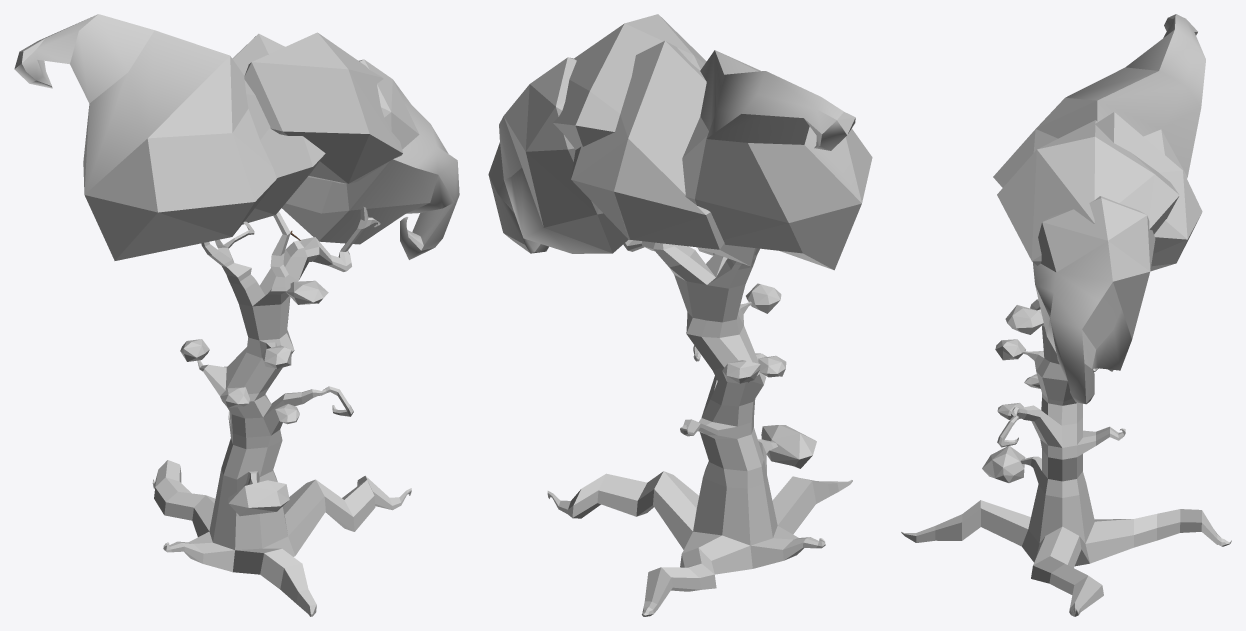
The model's file is BigTree.fbx.
3 views of the same model, side by side, from view 1: azimuth 30°, elevation 25°; view 2: azimuth 150°, elevation 25°; view 3: azimuth 270°, elevation 25° (orthographic). The views are drawn at different scales.
Visible parts, largest first — view 1: pSphere1, tree:pCylinder1, pSphere2, pSphere8, pSphere5, pSphere7, pSphere11; view 2: tree:pCylinder1, pSphere1, pSphere5, pSphere8, pSphere2, pSphere7, pSphere9, pSphere10; view 3: tree:pCylinder1, pSphere8, pSphere1, pSphere2, pSphere5, pSphere7, pSphere11, pSphere9.
Part boxes in pixels (x1,y1,x2,y2): pSphere1: (14,14,277,260); tree:pCylinder1: (152,207,411,616); pSphere2: (244,32,402,183); pSphere8: (282,59,459,259); pSphere5: (232,33,325,224); pSphere7: (228,480,289,516); pSphere11: (286,280,328,304); tree:pCylinder1: (547,240,852,616); pSphere1: (682,50,872,270); pSphere5: (571,41,756,266); pSphere8: (488,57,628,253); pSphere2: (553,14,706,149); pSphere7: (761,425,816,468); pSphere9: (746,283,781,313); pSphere10: (722,360,760,383); tree:pCylinder1: (901,299,1231,616); pSphere8: (1033,196,1155,404); pSphere1: (993,14,1205,187); pSphere2: (997,120,1179,265); pSphere5: (1094,112,1202,271); pSphere7: (982,446,1025,482); pSphere11: (1005,305,1043,334); pSphere9: (995,339,1025,360).
Size of the model in its own units: 20.69 by 26.15 by 16.33.
